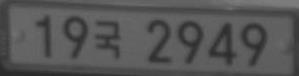1: (35, 15, 55, 57)
2: (147, 19, 170, 62)
4: (209, 22, 236, 65)
9: (241, 22, 268, 66), (179, 20, 202, 62), (64, 16, 87, 57)
국: (94, 21, 120, 58)
